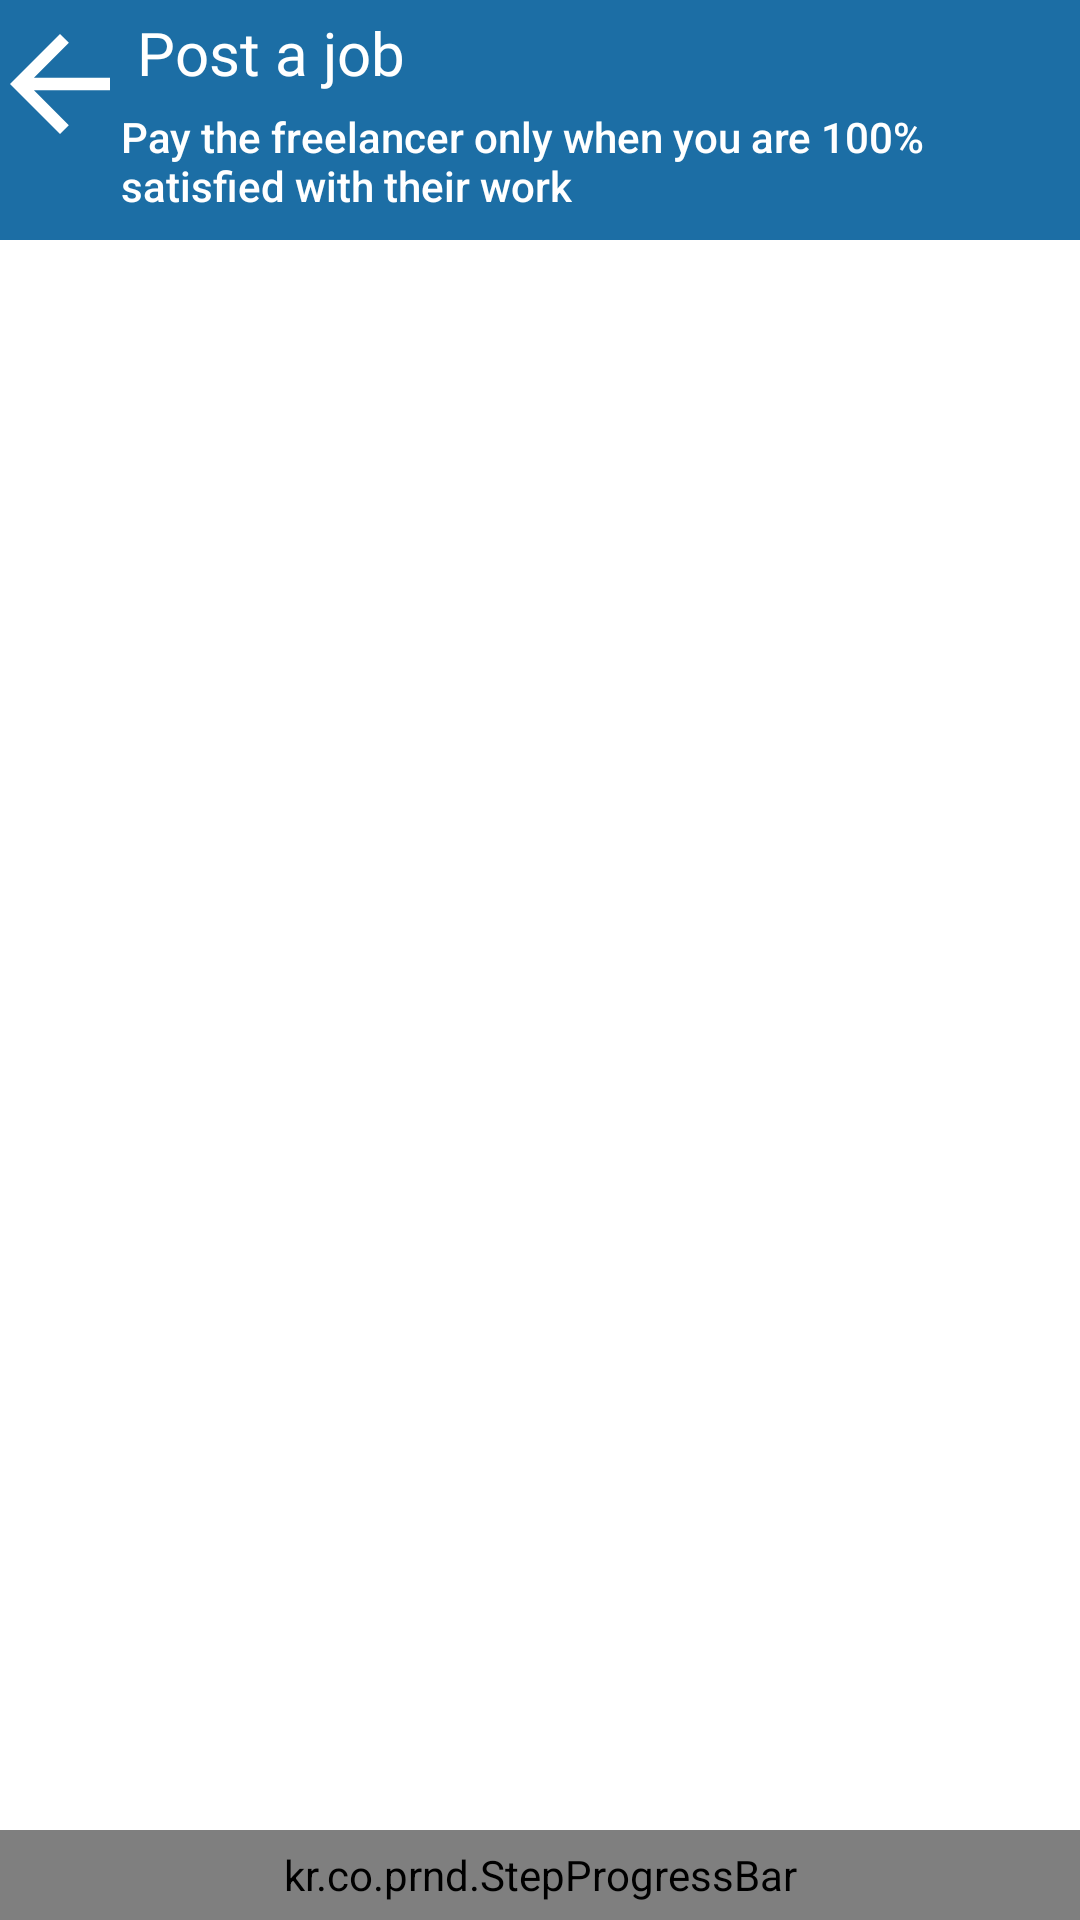

Icon bounding boxes for this 1080×1920 phone screenshot, format {"x1": x1, "y1": y1, "x2": x2, "y2": y2}:
backarrow: {"x1": 10, "y1": 34, "x2": 110, "y2": 134}
